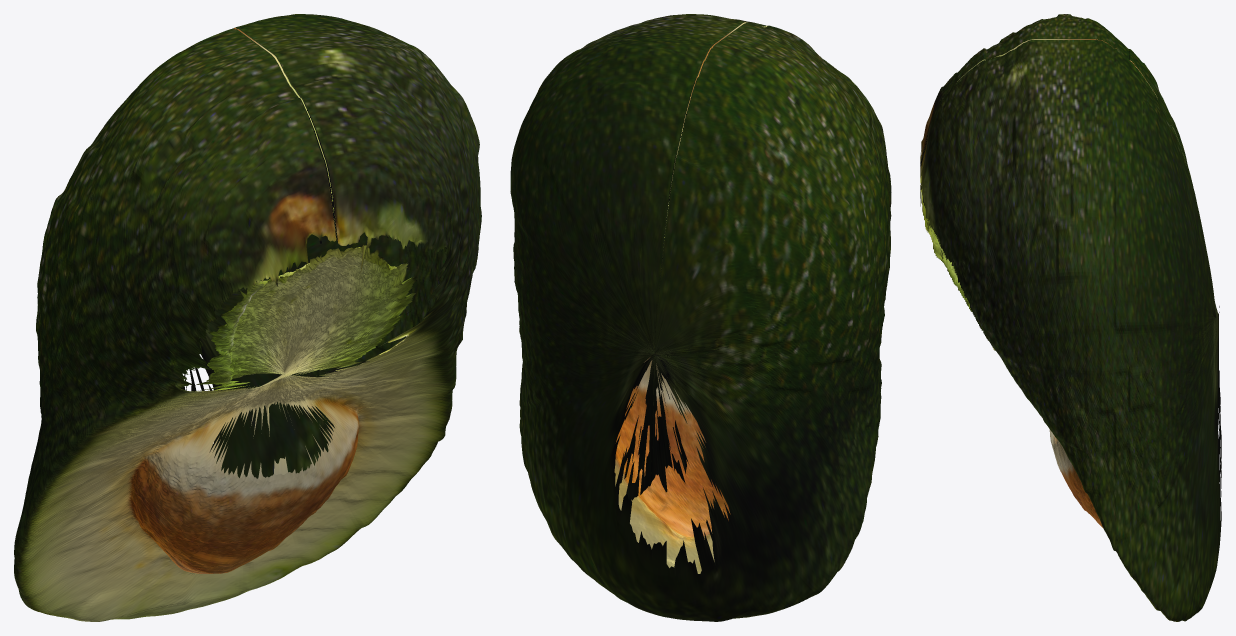
The picture shows the model from 3 angles, left to right: view 1: azimuth 30°, elevation 25°; view 2: azimuth 150°, elevation 25°; view 3: azimuth 270°, elevation 25°; orthographic projection. The views are drawn at different scales.
Parts seen in each view (by area): view 1: geometry_0; view 2: geometry_0; view 3: geometry_0.
Boxes of the visible parts, x1=… form: geometry_0: x1=14, y1=14, x2=481, y2=621; geometry_0: x1=510, y1=14, x2=891, y2=621; geometry_0: x1=920, y1=14, x2=1221, y2=621.
Size of the model in its own units: 1.44 by 2 by 0.9834.
Materials: 1 (1 with a texture image).
